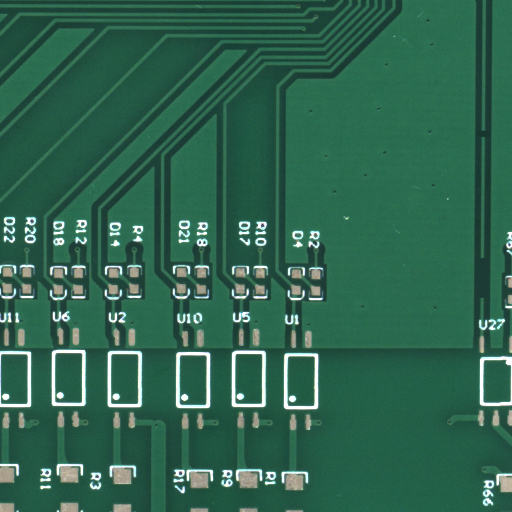Open_circuit: (482, 277, 493, 322), (482, 132, 494, 145)
